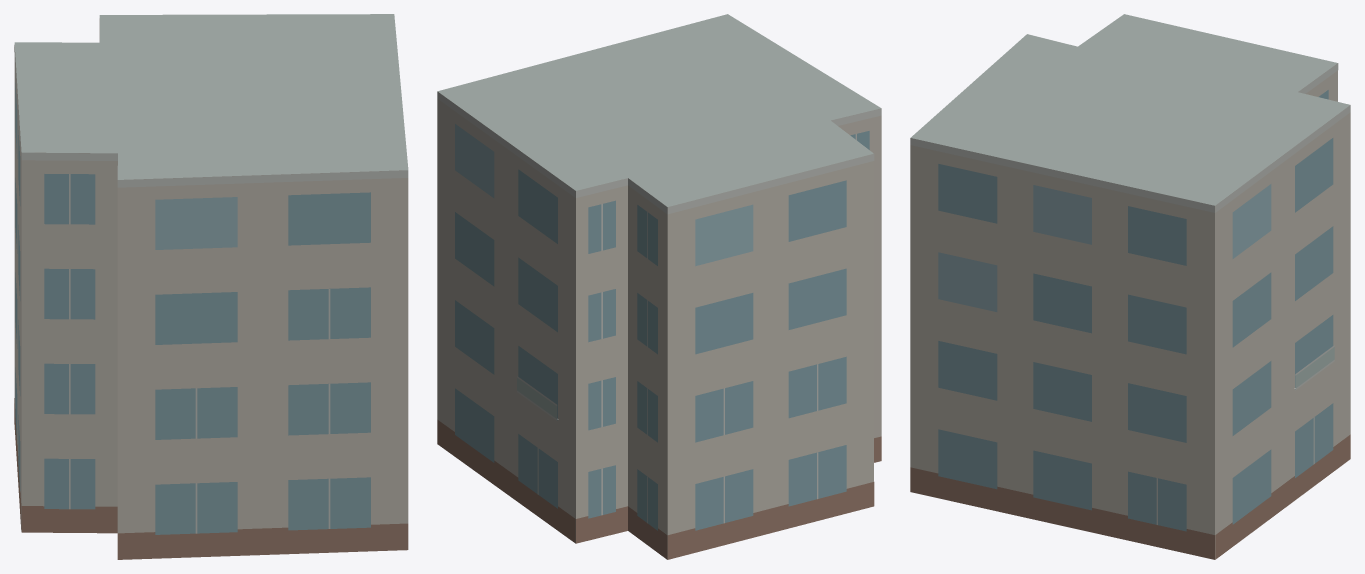
Rendered from survey-upis-33010722.glb.
3 renders of one model, left to right at view 1: azimuth 30°, elevation 25°; view 2: azimuth 150°, elevation 25°; view 3: azimuth 270°, elevation 25°, orthographic. The views are drawn at different scales.
Visible parts, largest first — view 1: survey-upis-33010722.tmp; view 2: survey-upis-33010722.tmp; view 3: survey-upis-33010722.tmp.
Boxes of the visible parts, <box> form: survey-upis-33010722.tmp: <box>14,14,408,559</box>; survey-upis-33010722.tmp: <box>437,14,881,559</box>; survey-upis-33010722.tmp: <box>910,14,1350,559</box>.
Bounding box in the file's own units: 13.83 × 11.9 × 13.42.
